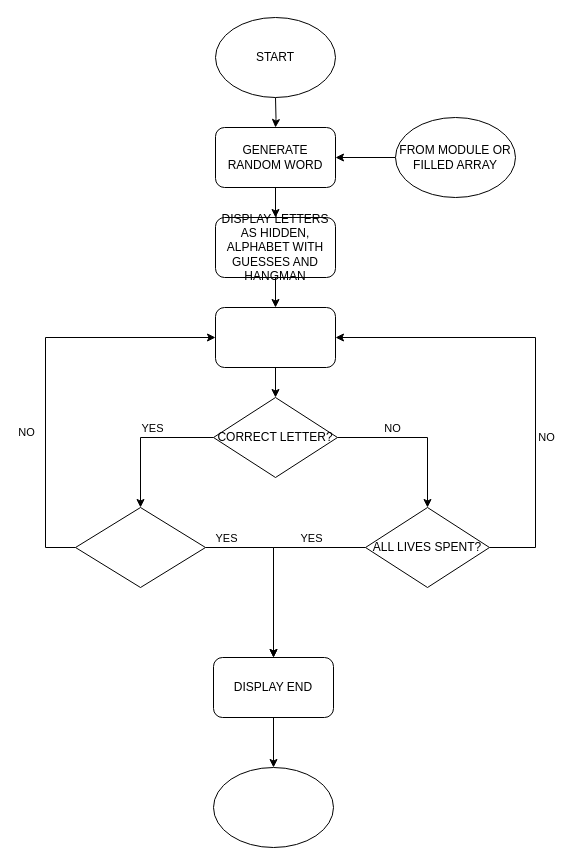
The diagram is 571 pixels wide and 865 high, and some of its shapes have lost their labels. Here are the shapes that lost their labels. From the top down, the box of each, then its label:
(214, 306, 336, 368): USER GUESSES LETTER
(74, 506, 206, 588): ARE ALL LETTERS GUESSED?
(212, 766, 334, 848): END
